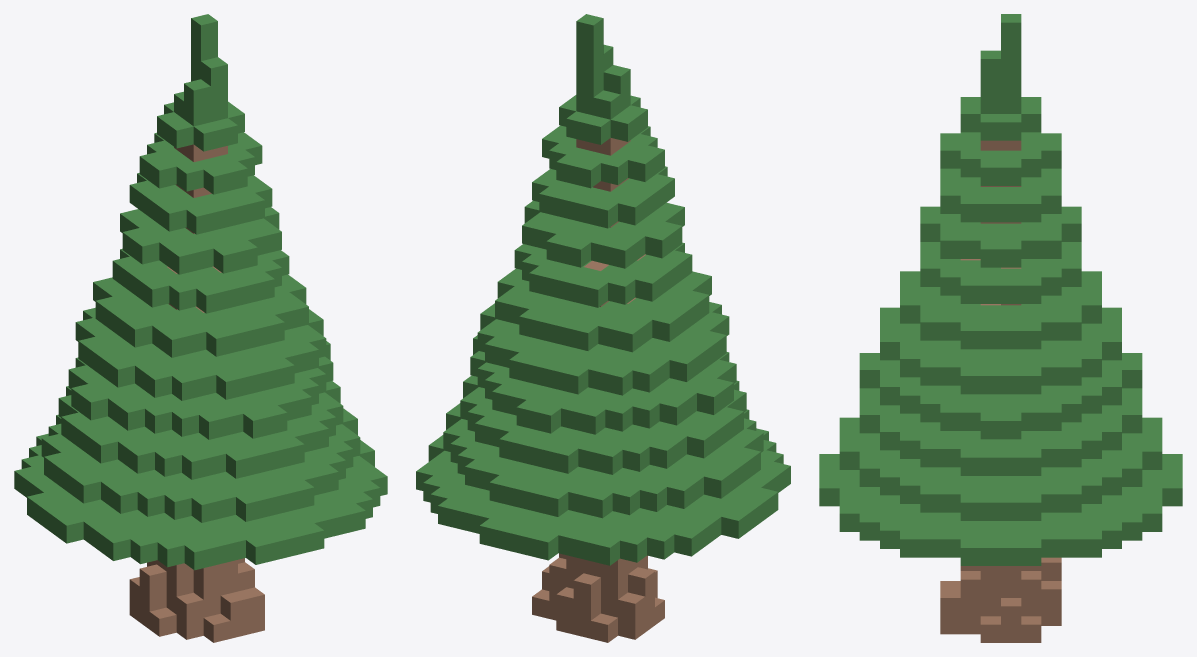
The model's file is tree_f_v1.fbx.
3 views of the same model, side by side, from view 1: azimuth 30°, elevation 25°; view 2: azimuth 150°, elevation 25°; view 3: azimuth 270°, elevation 25° (orthographic).
Visible parts, largest first — view 1: tree_f; view 2: tree_f; view 3: tree_f.
Boxes of the visible parts, left/top/right/bottom form: tree_f: left=14, top=14, right=387, bottom=642; tree_f: left=416, top=14, right=790, bottom=642; tree_f: left=819, top=14, right=1182, bottom=642.
Size of the model in its own units: 18 by 33 by 18.
